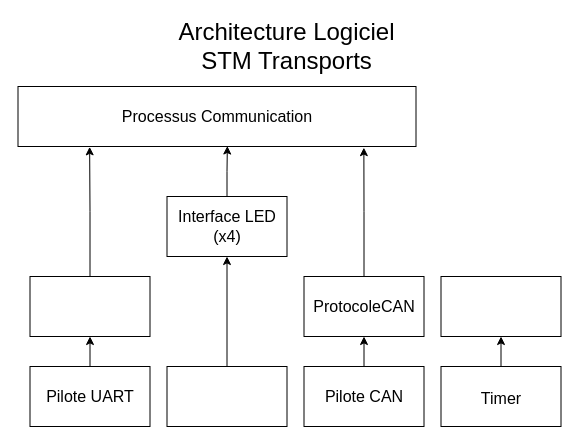
This 578x444 diagram has some shape labels left out. The shapes that lost their labels are listed below. From the top down, each one's centre as x and y in pixels, then its label:
the point at 89,306: Protocole UART
the point at 500,306: Base de temps
the point at 226,396: Pilote IO
